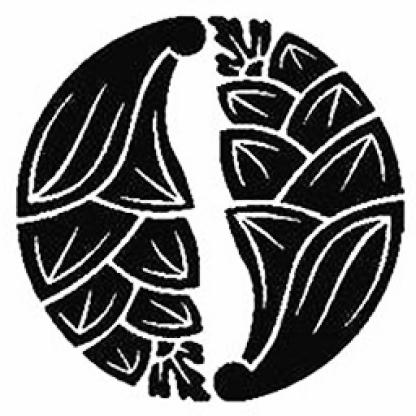kamon: (13, 13, 408, 403)
